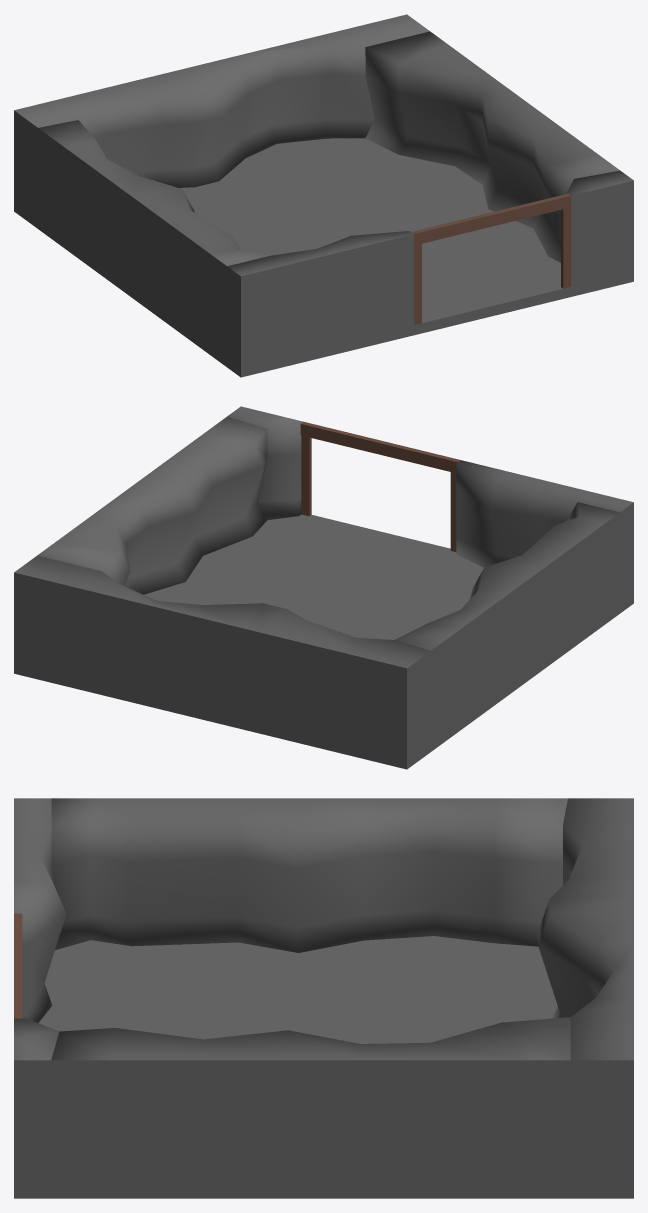
The model's file is TEST_MDL_DeadEnd_1.fbx.
The picture shows the model from 3 angles, top to bottom: view 1: azimuth 30°, elevation 25°; view 2: azimuth 150°, elevation 25°; view 3: azimuth 270°, elevation 25°; orthographic projection. The views are drawn at different scales.
Parts seen in each view (by area): view 1: Floor, Wall.001, Wall.002, Wall.003, Wall, Wooden Beam top, Wooden Beam L, Wooden Beam R; view 2: Wall.001, Floor, Wall, Wall.003, Wall.002, Wooden Beam top, Wooden Beam L, Wooden Beam R; view 3: Wall.003, Wall, Floor, Wall.001, Wall.002, Wooden Beam top.
Part boxes in pixels (bbox=[...]): Floor: bbox=[14, 138, 633, 377]; Wall.001: bbox=[14, 14, 429, 218]; Wall.002: bbox=[227, 170, 633, 367]; Wall.003: bbox=[365, 31, 619, 262]; Wall: bbox=[38, 120, 269, 356]; Wooden Beam top: bbox=[411, 193, 571, 245]; Wooden Beam L: bbox=[561, 207, 571, 288]; Wooden Beam R: bbox=[414, 244, 421, 324]; Wall.001: bbox=[14, 555, 430, 759]; Floor: bbox=[14, 514, 633, 769]; Wall: bbox=[395, 502, 620, 741]; Wall.003: bbox=[37, 416, 267, 594]; Wall.002: bbox=[227, 406, 633, 602]; Wooden Beam top: bbox=[300, 422, 460, 473]; Wooden Beam L: bbox=[301, 435, 311, 516]; Wooden Beam R: bbox=[450, 472, 456, 551]; Wall.003: bbox=[51, 1017, 570, 1184]; Wall: bbox=[51, 798, 567, 952]; Floor: bbox=[14, 936, 633, 1198]; Wall.001: bbox=[538, 798, 633, 1184]; Wall.002: bbox=[14, 798, 66, 1184]; Wooden Beam top: bbox=[14, 913, 22, 1018].
Bounding box in the file's own units: 2500 × 615 × 2500.
